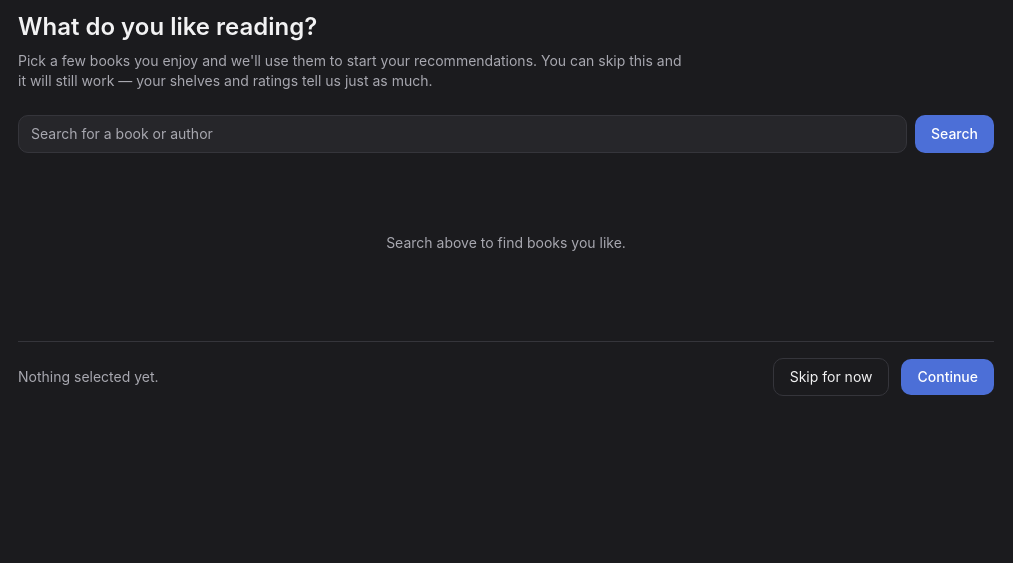
Test: OnboardingPage › selects and deselects a book
In the search field named "Search for books or authors": (462, 134) [18,115,907,153], type "dune"
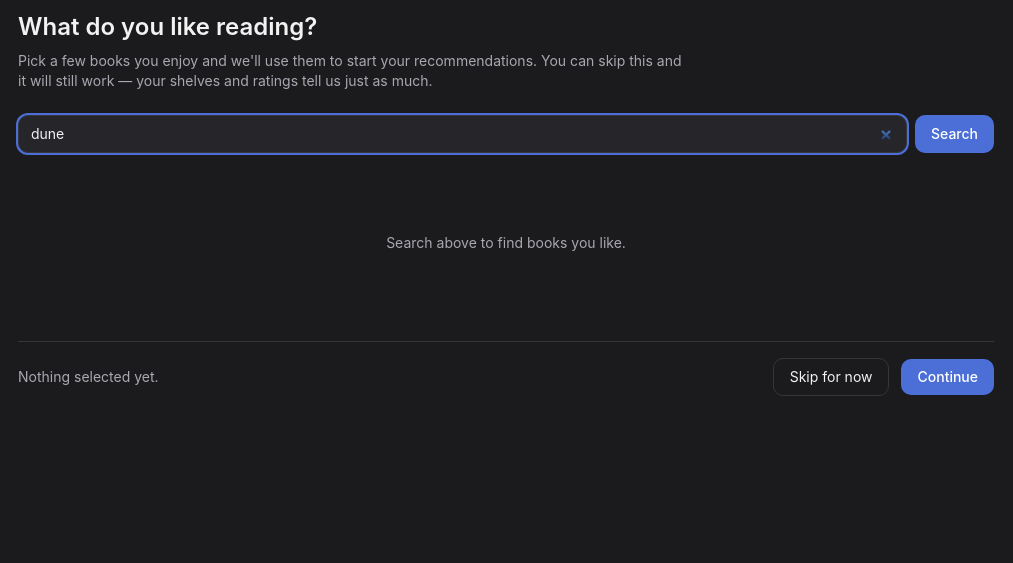
Click the button "Search": (954, 134) [915,115,994,153]
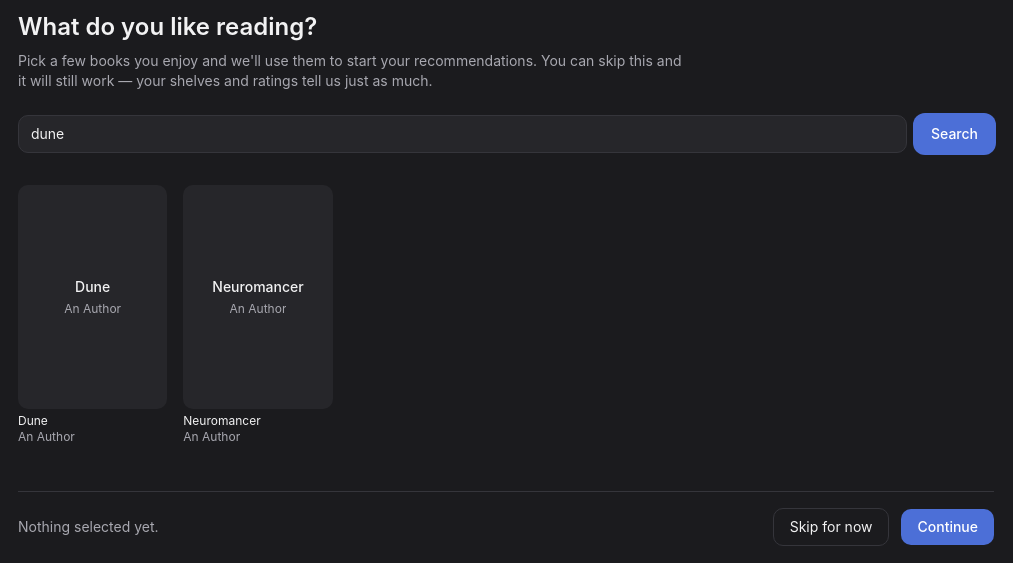
Click the button "Dune An Author Dune An Author": (93, 315) [18,185,167,445]
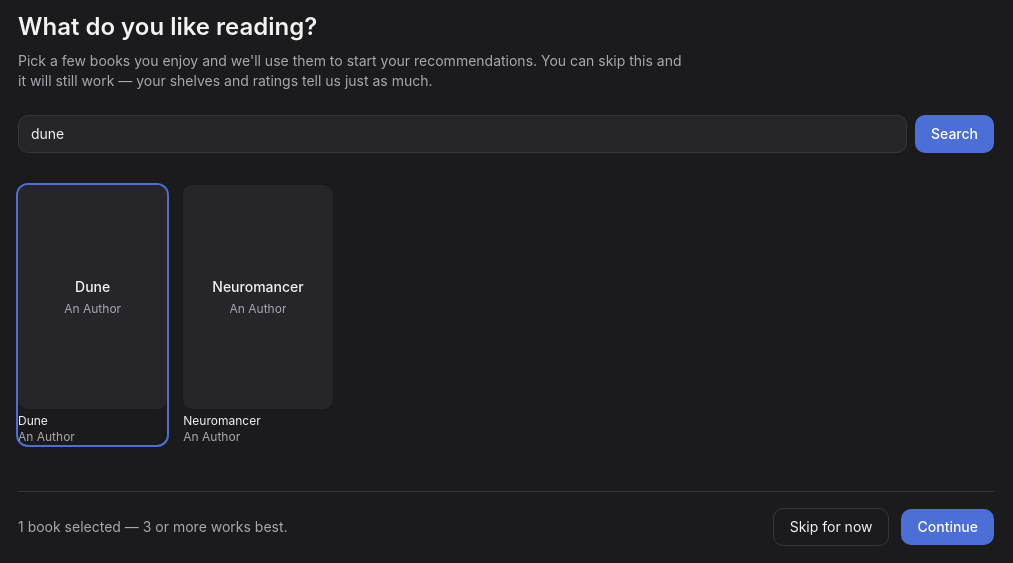
Check: the text "1 book selected — 3 or more works best." is shown, box [18,518,288,535]
Click the button "Dune An Author Dune An Author": (93, 315) [18,185,167,445]
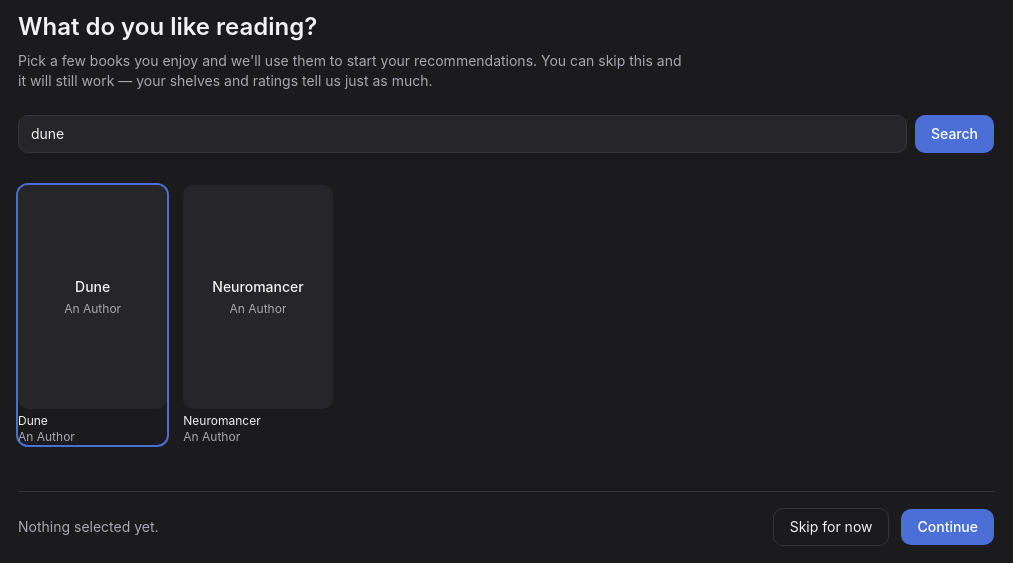
Check: the text "Nothing selected yet." is shown, box [18,518,159,535]
